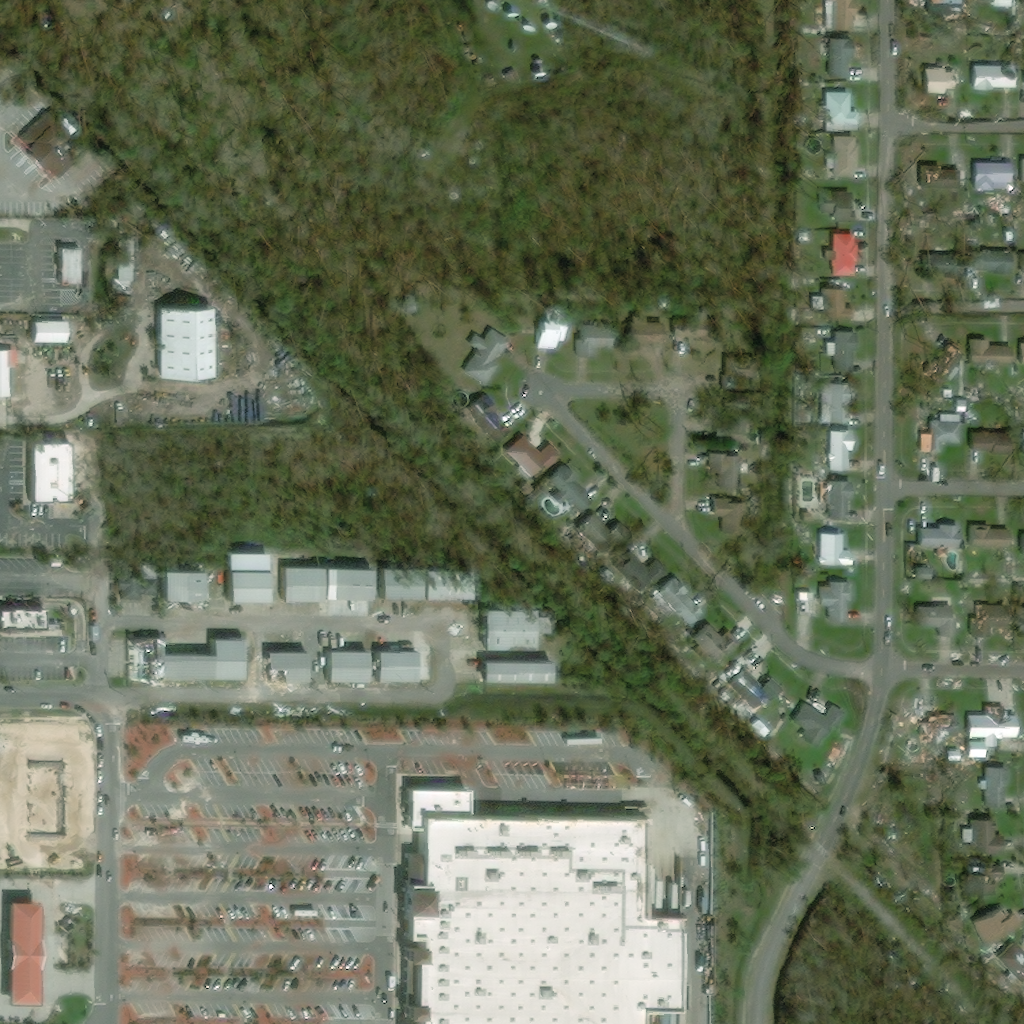destroyed: (916, 704, 957, 743), (558, 775, 610, 791), (791, 529, 807, 539), (991, 205, 1005, 214), (969, 390, 981, 399)
major_damage: (124, 637, 243, 680), (923, 343, 966, 387), (262, 651, 305, 683), (971, 603, 1006, 638), (919, 67, 958, 94), (56, 246, 81, 287), (963, 221, 982, 230)
minor_damage: (154, 306, 212, 378), (647, 576, 703, 633), (477, 608, 546, 649), (25, 439, 69, 502), (965, 705, 1018, 750), (465, 393, 510, 446), (734, 668, 782, 704), (582, 513, 632, 547), (820, 481, 854, 526), (961, 865, 1002, 898), (998, 940, 1023, 980), (920, 164, 941, 186)
no_damage: (393, 785, 673, 1023), (12, 108, 85, 186), (278, 566, 372, 603), (0, 898, 33, 1003), (462, 326, 512, 387), (374, 567, 469, 599), (0, 602, 69, 640), (507, 435, 563, 479), (970, 905, 1022, 950), (794, 703, 845, 748), (797, 581, 852, 621), (548, 466, 593, 513), (692, 623, 741, 663), (618, 550, 668, 589), (113, 562, 157, 604), (477, 659, 552, 682), (919, 414, 962, 453), (961, 819, 1005, 857), (620, 315, 662, 353), (819, 186, 856, 226), (373, 650, 417, 683), (158, 569, 202, 602), (574, 323, 614, 358), (916, 605, 957, 638), (324, 649, 367, 680), (825, 92, 859, 131), (821, 383, 854, 423), (535, 308, 567, 349), (108, 240, 131, 297), (816, 287, 854, 320), (223, 571, 263, 602), (819, 0, 857, 32), (969, 338, 1014, 365), (973, 162, 1013, 192), (824, 37, 852, 79), (970, 64, 1015, 90), (827, 429, 854, 471), (717, 410, 758, 437), (833, 135, 858, 179), (921, 251, 963, 277), (984, 764, 1008, 809), (831, 233, 856, 276), (973, 251, 1014, 277), (917, 523, 961, 547), (819, 533, 851, 565), (969, 524, 1010, 548), (670, 317, 712, 340), (30, 321, 68, 342), (721, 355, 751, 381), (223, 552, 266, 570), (833, 331, 857, 362), (399, 293, 427, 318), (0, 349, 14, 397), (970, 427, 993, 454), (954, 169, 969, 188), (994, 0, 1014, 14), (828, 747, 844, 764), (955, 401, 966, 411), (1019, 341, 1023, 366), (945, 388, 953, 400)
unclassified: (918, 36, 953, 61), (952, 191, 963, 205)
